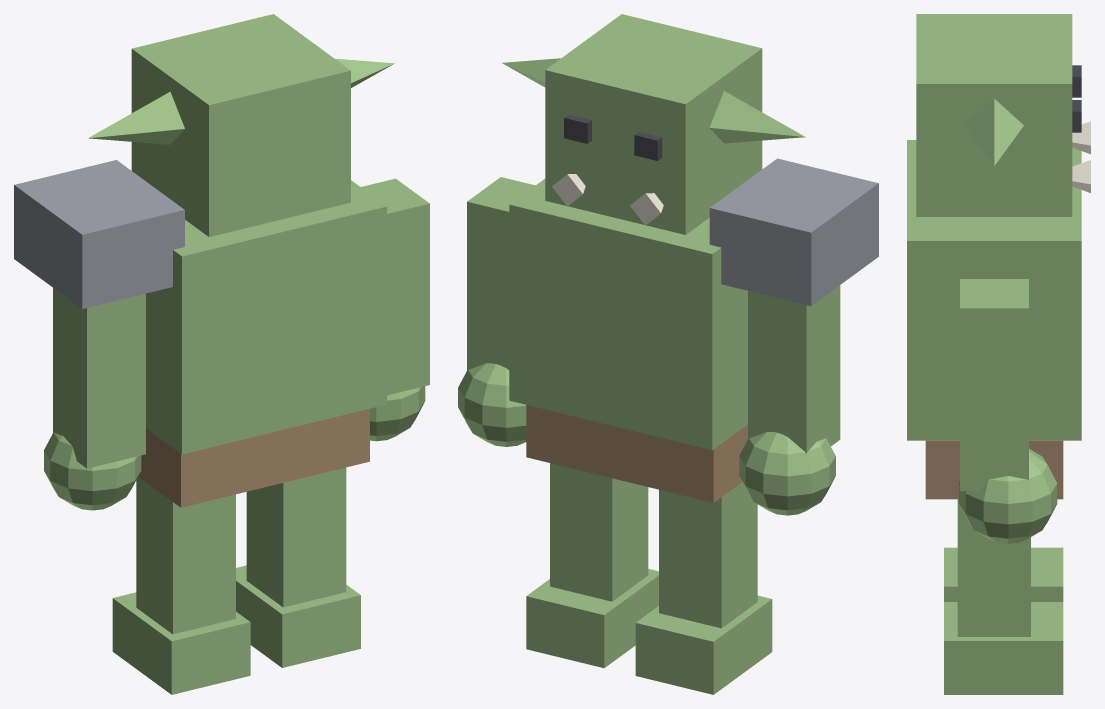
The model's file is mob_goblin_brute.glb.
3 renders of one model, left to right at view 1: azimuth 30°, elevation 25°; view 2: azimuth 150°, elevation 25°; view 3: azimuth 270°, elevation 25°, orthographic.
Parts seen in each view (by area): view 1: mob_goblin_brute_05, mob_goblin_brute_11, mob_goblin_brute_06, mob_goblin_brute_07, mob_goblin_brute_02, mob_goblin_brute_04, mob_goblin_brute_03, mob_goblin_brute_08, mob_goblin_brute_00, mob_goblin_brute_01, mob_goblin_brute_09, mob_goblin_brute_12 (+2 smaller); view 2: mob_goblin_brute_05, mob_goblin_brute_11, mob_goblin_brute_06, mob_goblin_brute_07, mob_goblin_brute_02, mob_goblin_brute_03, mob_goblin_brute_04, mob_goblin_brute_00, mob_goblin_brute_01, mob_goblin_brute_08, mob_goblin_brute_09, mob_goblin_brute_10 (+6 smaller); view 3: mob_goblin_brute_11, mob_goblin_brute_05, mob_goblin_brute_08, mob_goblin_brute_01, mob_goblin_brute_03, mob_goblin_brute_10, mob_goblin_brute_04, mob_goblin_brute_00, mob_goblin_brute_13, mob_goblin_brute_17, mob_goblin_brute_16, mob_goblin_brute_14 (+1 smaller).
Part boxes in pixels (x1=…): mob_goblin_brute_05: x1=146, y1=180, x2=386, y2=454; mob_goblin_brute_11: x1=131, y1=14, x2=350, y2=236; mob_goblin_brute_06: x1=14, y1=160, x2=184, y2=308; mob_goblin_brute_07: x1=53, y1=288, x2=145, y2=468; mob_goblin_brute_02: x1=136, y1=476, x2=235, y2=634; mob_goblin_brute_04: x1=138, y1=408, x2=369, y2=507; mob_goblin_brute_03: x1=246, y1=467, x2=346, y2=607; mob_goblin_brute_08: x1=361, y1=178, x2=429, y2=395; mob_goblin_brute_00: x1=112, y1=592, x2=250, y2=694; mob_goblin_brute_01: x1=236, y1=565, x2=360, y2=667; mob_goblin_brute_09: x1=44, y1=432, x2=141, y2=510; mob_goblin_brute_12: x1=88, y1=91, x2=184, y2=144; mob_goblin_brute_05: x1=509, y1=179, x2=747, y2=450; mob_goblin_brute_11: x1=545, y1=14, x2=762, y2=234; mob_goblin_brute_06: x1=709, y1=158, x2=878, y2=305; mob_goblin_brute_07: x1=748, y1=285, x2=840, y2=453; mob_goblin_brute_02: x1=659, y1=482, x2=757, y2=628; mob_goblin_brute_03: x1=550, y1=463, x2=648, y2=601; mob_goblin_brute_04: x1=526, y1=405, x2=747, y2=502; mob_goblin_brute_00: x1=635, y1=595, x2=772, y2=694; mob_goblin_brute_01: x1=526, y1=569, x2=658, y2=668; mob_goblin_brute_08: x1=467, y1=177, x2=535, y2=370; mob_goblin_brute_09: x1=739, y1=432, x2=835, y2=515; mob_goblin_brute_10: x1=458, y1=363, x2=526, y2=446; mob_goblin_brute_11: x1=916, y1=14, x2=1072, y2=216; mob_goblin_brute_05: x1=907, y1=140, x2=1081, y2=440; mob_goblin_brute_08: x1=960, y1=279, x2=1028, y2=491; mob_goblin_brute_01: x1=944, y1=602, x2=1063, y2=694; mob_goblin_brute_03: x1=957, y1=499, x2=1030, y2=636; mob_goblin_brute_10: x1=959, y1=449, x2=1057, y2=543; mob_goblin_brute_04: x1=925, y1=440, x2=1063, y2=499; mob_goblin_brute_00: x1=944, y1=547, x2=1063, y2=601; mob_goblin_brute_13: x1=965, y1=98, x2=1023, y2=165; mob_goblin_brute_17: x1=1072, y1=160, x2=1090, y2=192; mob_goblin_brute_16: x1=1072, y1=121, x2=1090, y2=154; mob_goblin_brute_14: x1=1072, y1=65, x2=1081, y2=97.
Bounding box in the file's own units: 0.9572 × 1.44 × 0.4.
